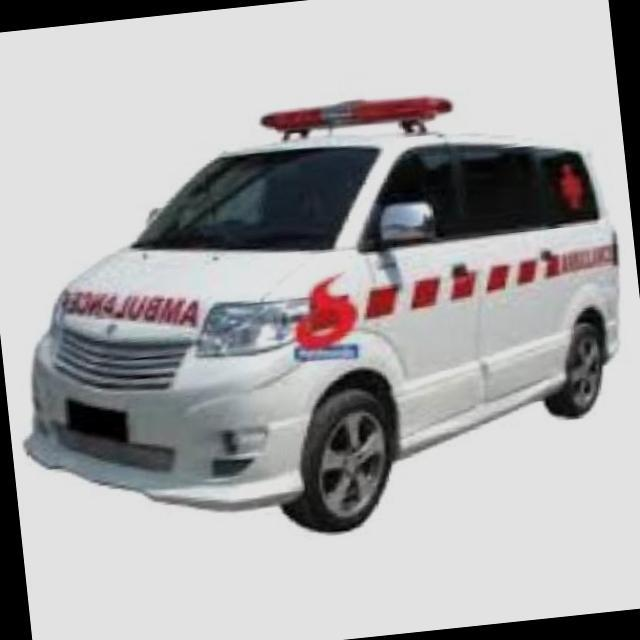emergency-vehicle: (0, 48, 640, 587)
